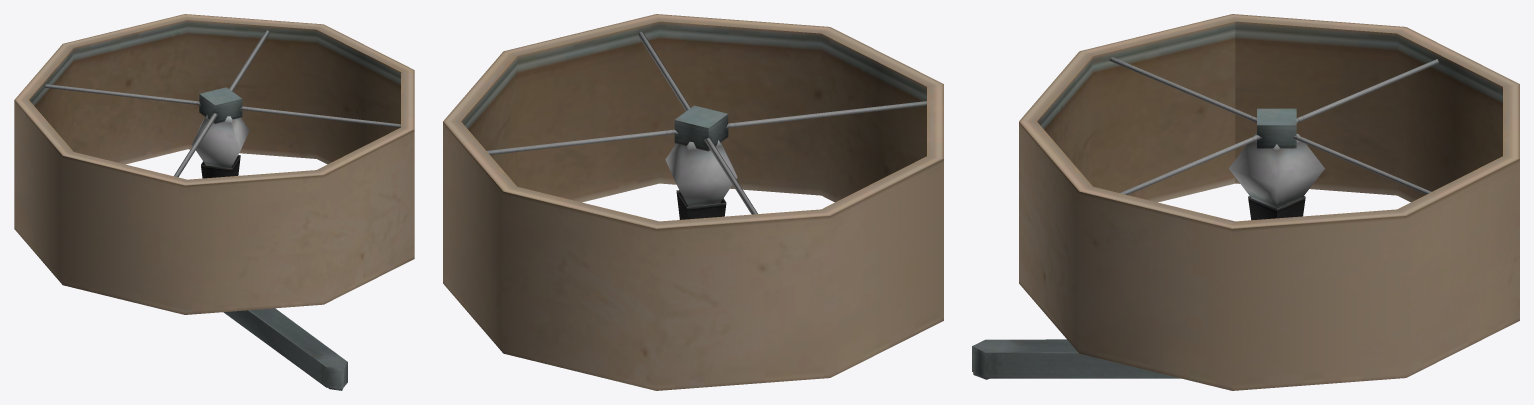
File: paris_bookstore_wall_light_top_off_lod2.glb
The picture shows the model from 3 angles, left to right: view 1: azimuth 30°, elevation 25°; view 2: azimuth 150°, elevation 25°; view 3: azimuth 270°, elevation 25°; orthographic projection. The views are drawn at different scales.
Parts seen in each view (by area): view 1: surf0; view 2: surf0; view 3: surf0.
Boxes of the visible parts, x1,y1,x2,y2 form: surf0: (14,14,414,390); surf0: (443,14,943,390); surf0: (972,14,1519,390).
Bounding box in the file's own units: 20.04 × 11.21 × 21.58.
